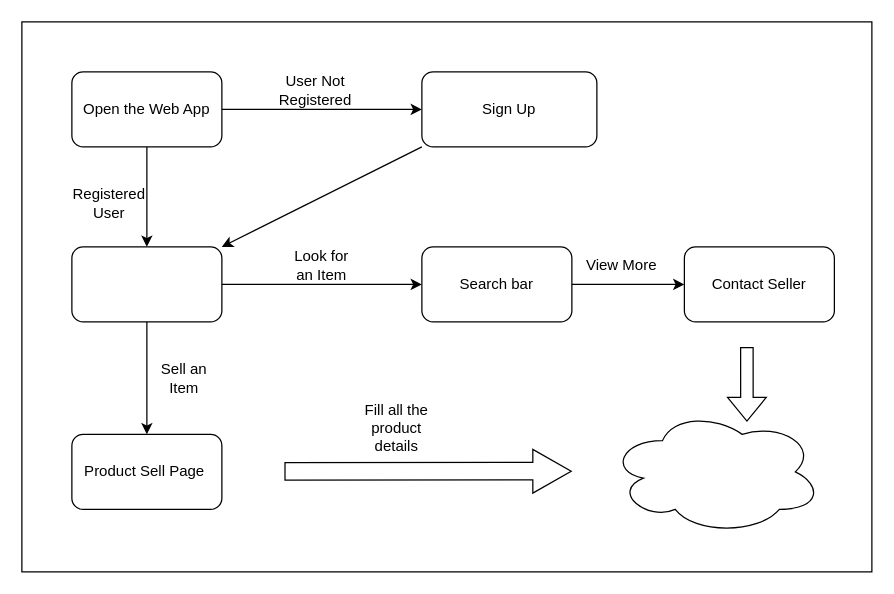
Some shapes in this 894 by 594 pixel diagram are drawn without their labels. Here are the shapes that lost their labels. From the top down, the box of each, then its label:
(71, 246, 222, 322): Home Page
(608, 408, 822, 534): Wait for Response !!
